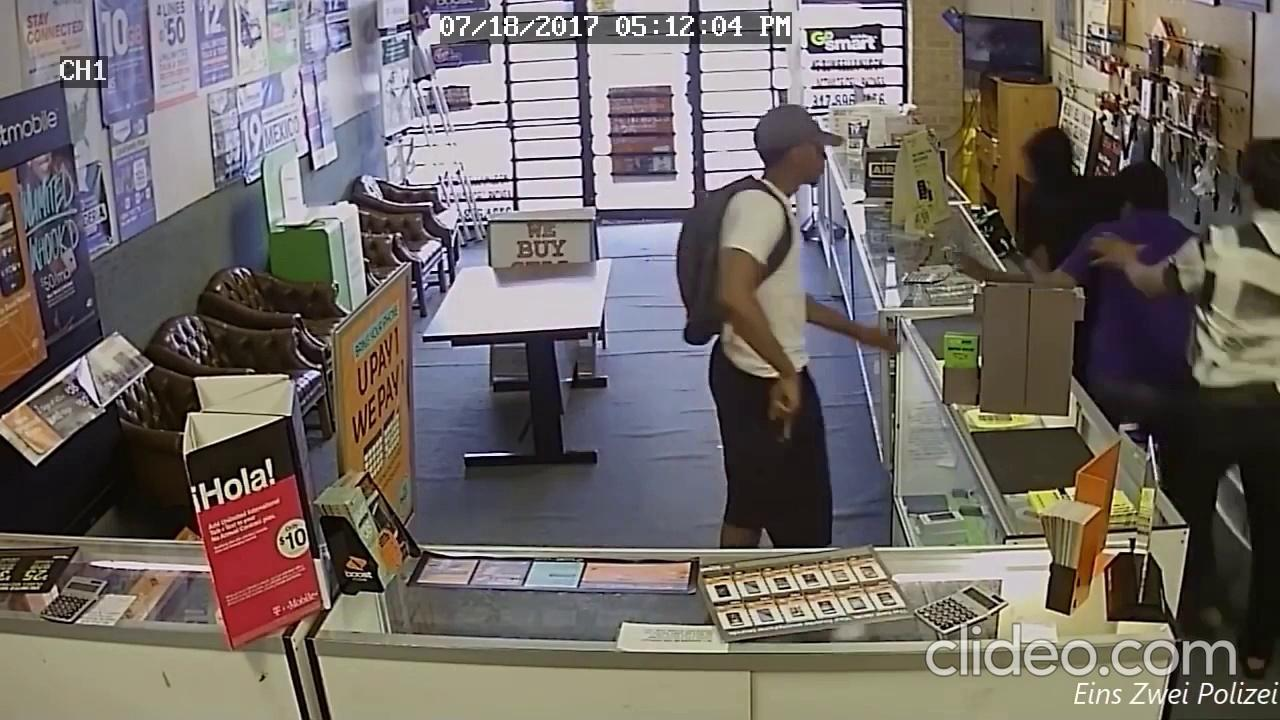person: (1092, 135, 1280, 678), (675, 103, 901, 547), (1021, 161, 1204, 480), (956, 123, 1114, 290)
pistol: (765, 392, 803, 466)
